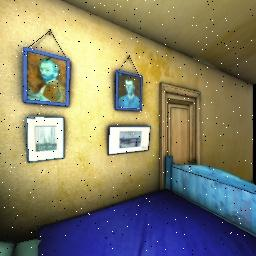bed: (0, 150, 256, 256)
door: (160, 90, 202, 189)
